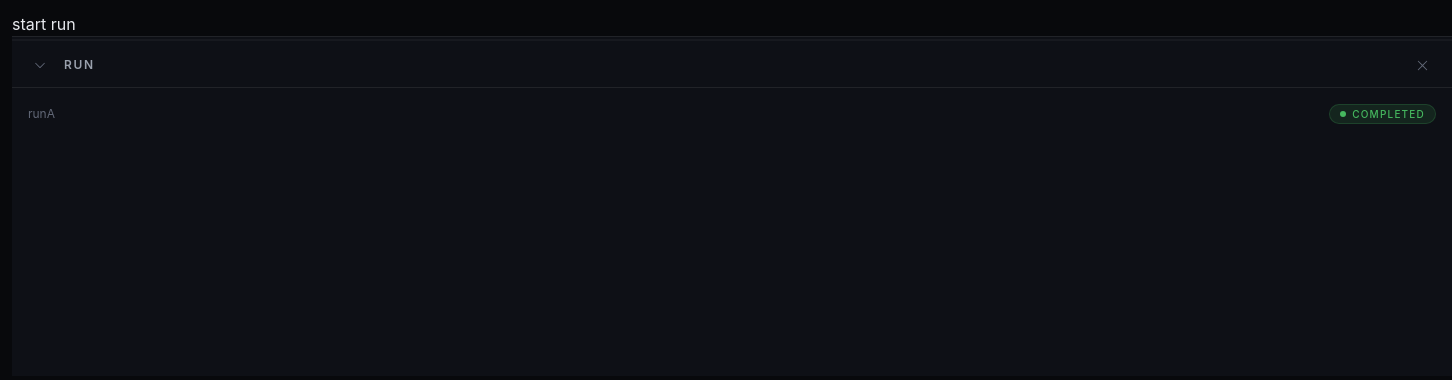
Scenario: RunDrawer — history replay & re-attach › clicking a finished run replays stored output without a live subscription
Click the button "runA completed". click: (1383, 114)
box: 20,96 -> 1444,132
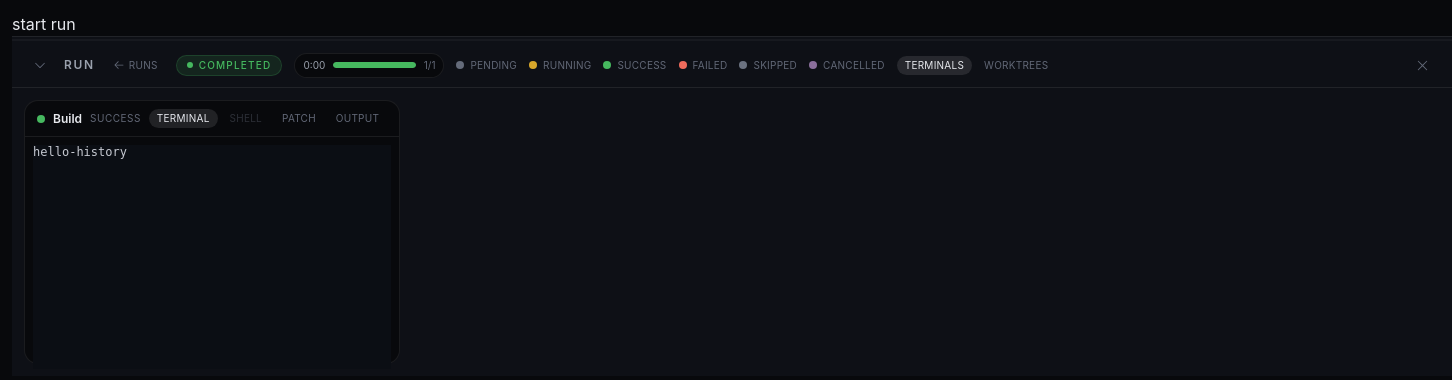
Now the text "hello-history" is shown, box 33,145 -> 127,159
